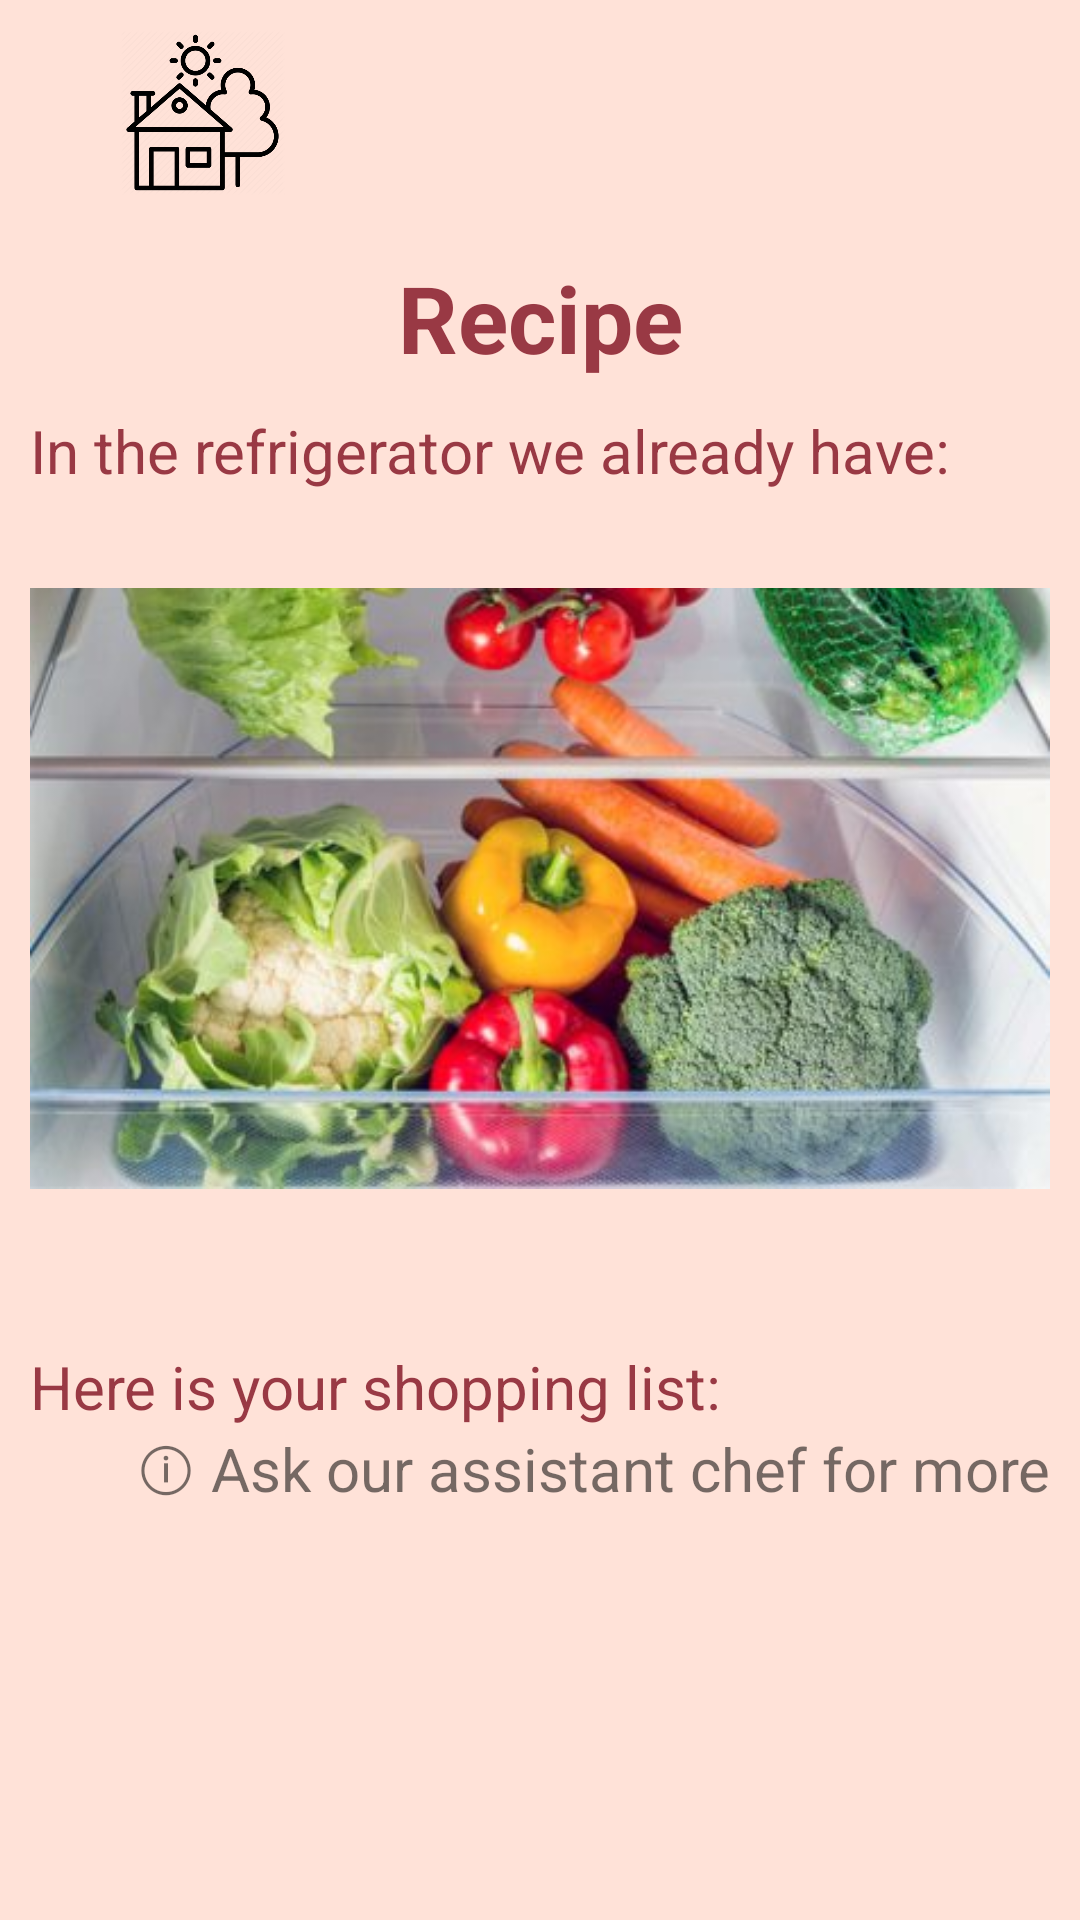

Screen size 1080×1920. Icon name, then its center in pixels as (x=x, y=y):
house: (x=202, y=112)
